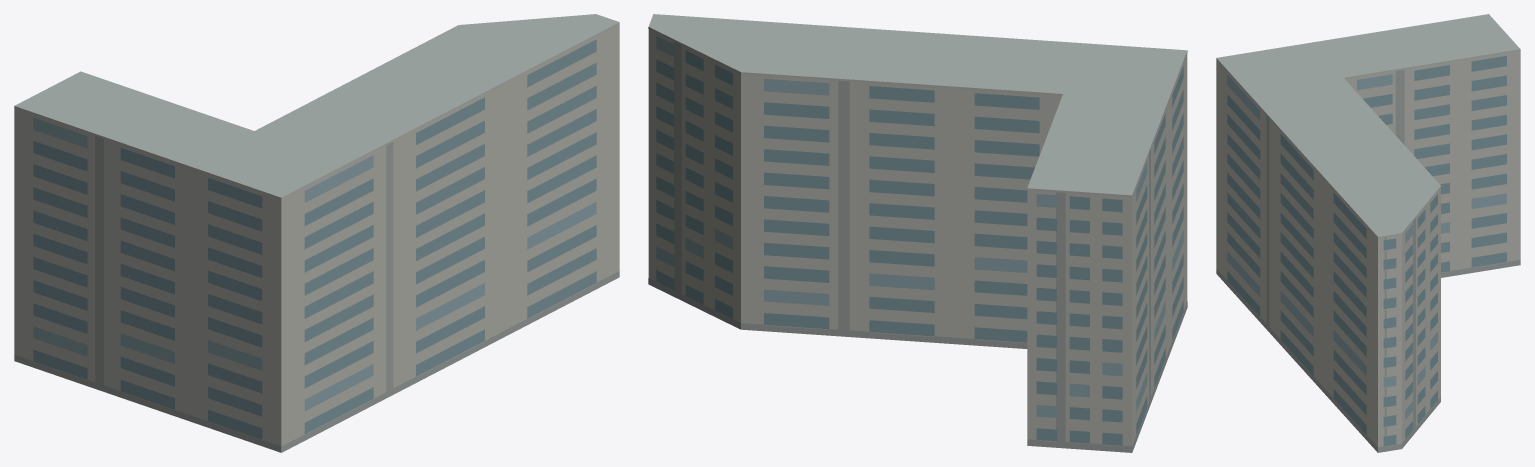
Rendered from residential-f1c11e28-43a4-4ca2-be64-078fb42b9dd8.glb.
3 views of the same model, side by side, from view 1: azimuth 30°, elevation 25°; view 2: azimuth 150°, elevation 25°; view 3: azimuth 270°, elevation 25° (orthographic). The views are drawn at different scales.
Parts seen in each view (by area): view 1: residential-f1c11e28-43a4-4ca2-be64-078fb42b9dd8.tmp; view 2: residential-f1c11e28-43a4-4ca2-be64-078fb42b9dd8.tmp; view 3: residential-f1c11e28-43a4-4ca2-be64-078fb42b9dd8.tmp.
Part boxes in pixels (x1=…): residential-f1c11e28-43a4-4ca2-be64-078fb42b9dd8.tmp: x1=14, y1=14, x2=619, y2=452; residential-f1c11e28-43a4-4ca2-be64-078fb42b9dd8.tmp: x1=648, y1=14, x2=1187, y2=452; residential-f1c11e28-43a4-4ca2-be64-078fb42b9dd8.tmp: x1=1216, y1=14, x2=1520, y2=452.
Size of the model in its own units: 66.44 by 30 by 38.31.
